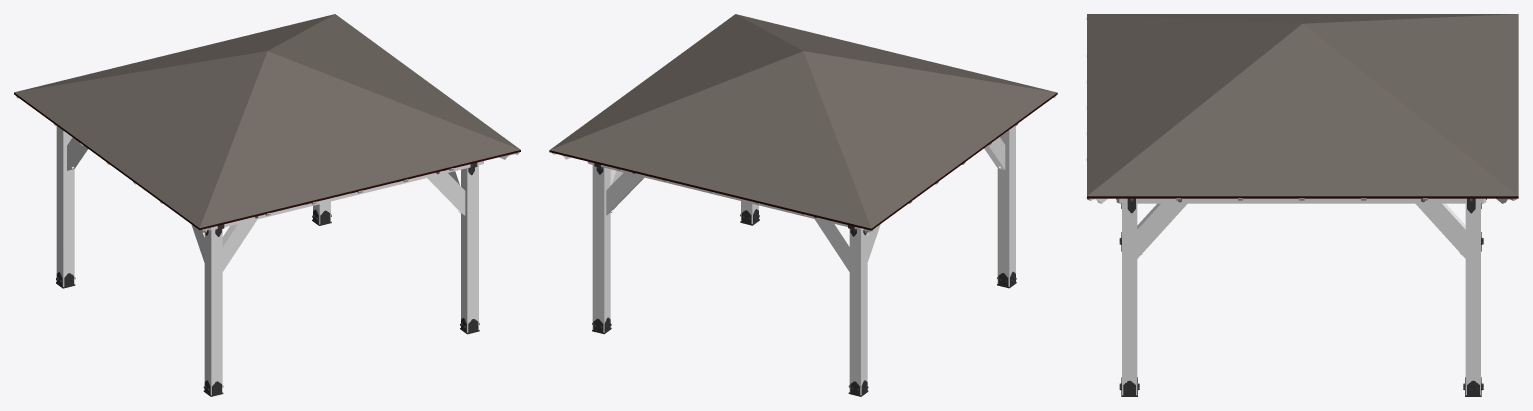
Rendered from saratoga-14x14-cove.obj.
The picture shows the model from 3 angles, left to right: view 1: azimuth 30°, elevation 25°; view 2: azimuth 150°, elevation 25°; view 3: azimuth 270°, elevation 25°; orthographic projection. The views are drawn at different scales.
Parts seen in each view (by area): view 1: Mesh226 shingles roof Group1 Model, Mesh177 Group70 Component_92_4 Group1 Model, Mesh79 Group42 Component_92_2 Group1 Model, Mesh128 Group56 Component_92_3 Group1 Model, Mesh227 roof Group1 Model, Mesh75 Component_135_1 Group1 Model, Mesh217 Component_91_7 Component_92_4 Group1 Model, Mesh119 Component_91_3 Component_92_2 Group1 Model, Mesh172 Component_91_6 Component_92_3 Group1 Model; view 2: Mesh226 shingles roof Group1 Model, Mesh128 Group56 Component_92_3 Group1 Model, Mesh1 Group3 Component_92_1 Group2 Group1 Model, Mesh177 Group70 Component_92_4 Group1 Model, Mesh227 roof Group1 Model, Mesh168 Component_91_5 Component_92_3 Group1 Model, Mesh41 Component_91_1 Component_92_1 Group2 Group1 Model, Mesh77 Component_135_2 Group1 Model, Mesh221 Component_91_8 Component_92_4 Group1 Model; view 3: Mesh226 shingles roof Group1 Model, Mesh79 Group42 Component_92_2 Group1 Model, Mesh1 Group3 Component_92_1 Group2 Group1 Model, Mesh78 Component_134_2 Group1 Model, Mesh227 roof Group1 Model, Mesh123 Component_91_4 Component_92_2 Group1 Model, Mesh45 Component_91_2 Component_92_1 Group2 Group1 Model.
Part boxes in pixels (<box>): Mesh226 shingles roof Group1 Model: <box>14,14,520,228</box>; Mesh177 Group70 Component_92_4 Group1 Model: <box>204,229,222,395</box>; Mesh79 Group42 Component_92_2 Group1 Model: <box>461,165,478,332</box>; Mesh128 Group56 Component_92_3 Group1 Model: <box>56,126,74,286</box>; Mesh227 roof Group1 Model: <box>14,92,520,230</box>; Mesh75 Component_135_1 Group1 Model: <box>208,161,483,230</box>; Mesh217 Component_91_7 Component_92_4 Group1 Model: <box>222,219,257,271</box>; Mesh119 Component_91_3 Component_92_2 Group1 Model: <box>427,173,465,215</box>; Mesh172 Component_91_6 Component_92_3 Group1 Model: <box>67,137,87,170</box>; Mesh226 shingles roof Group1 Model: <box>550,14,1056,228</box>; Mesh128 Group56 Component_92_3 Group1 Model: <box>849,229,867,395</box>; Mesh1 Group3 Component_92_1 Group2 Group1 Model: <box>592,165,610,332</box>; Mesh177 Group70 Component_92_4 Group1 Model: <box>997,126,1015,286</box>; Mesh227 roof Group1 Model: <box>549,92,1057,230</box>; Mesh168 Component_91_5 Component_92_3 Group1 Model: <box>814,219,849,271</box>; Mesh41 Component_91_1 Component_92_1 Group2 Group1 Model: <box>606,172,644,215</box>; Mesh77 Component_135_2 Group1 Model: <box>587,161,863,230</box>; Mesh221 Component_91_8 Component_92_4 Group1 Model: <box>984,137,1005,170</box>; Mesh226 shingles roof Group1 Model: <box>1087,14,1518,196</box>; Mesh79 Group42 Component_92_2 Group1 Model: <box>1122,203,1137,395</box>; Mesh1 Group3 Component_92_1 Group2 Group1 Model: <box>1465,203,1480,395</box>; Mesh78 Component_134_2 Group1 Model: <box>1127,198,1475,203</box>; Mesh227 roof Group1 Model: <box>1087,196,1518,198</box>; Mesh123 Component_91_4 Component_92_2 Group1 Model: <box>1137,203,1187,258</box>; Mesh45 Component_91_2 Component_92_1 Group2 Group1 Model: <box>1415,203,1465,258</box>.
Size of the model in its own units: 168 by 128 by 168.
